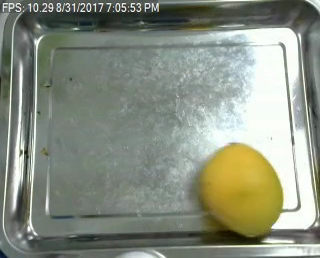Mango: (199, 145, 281, 237)
